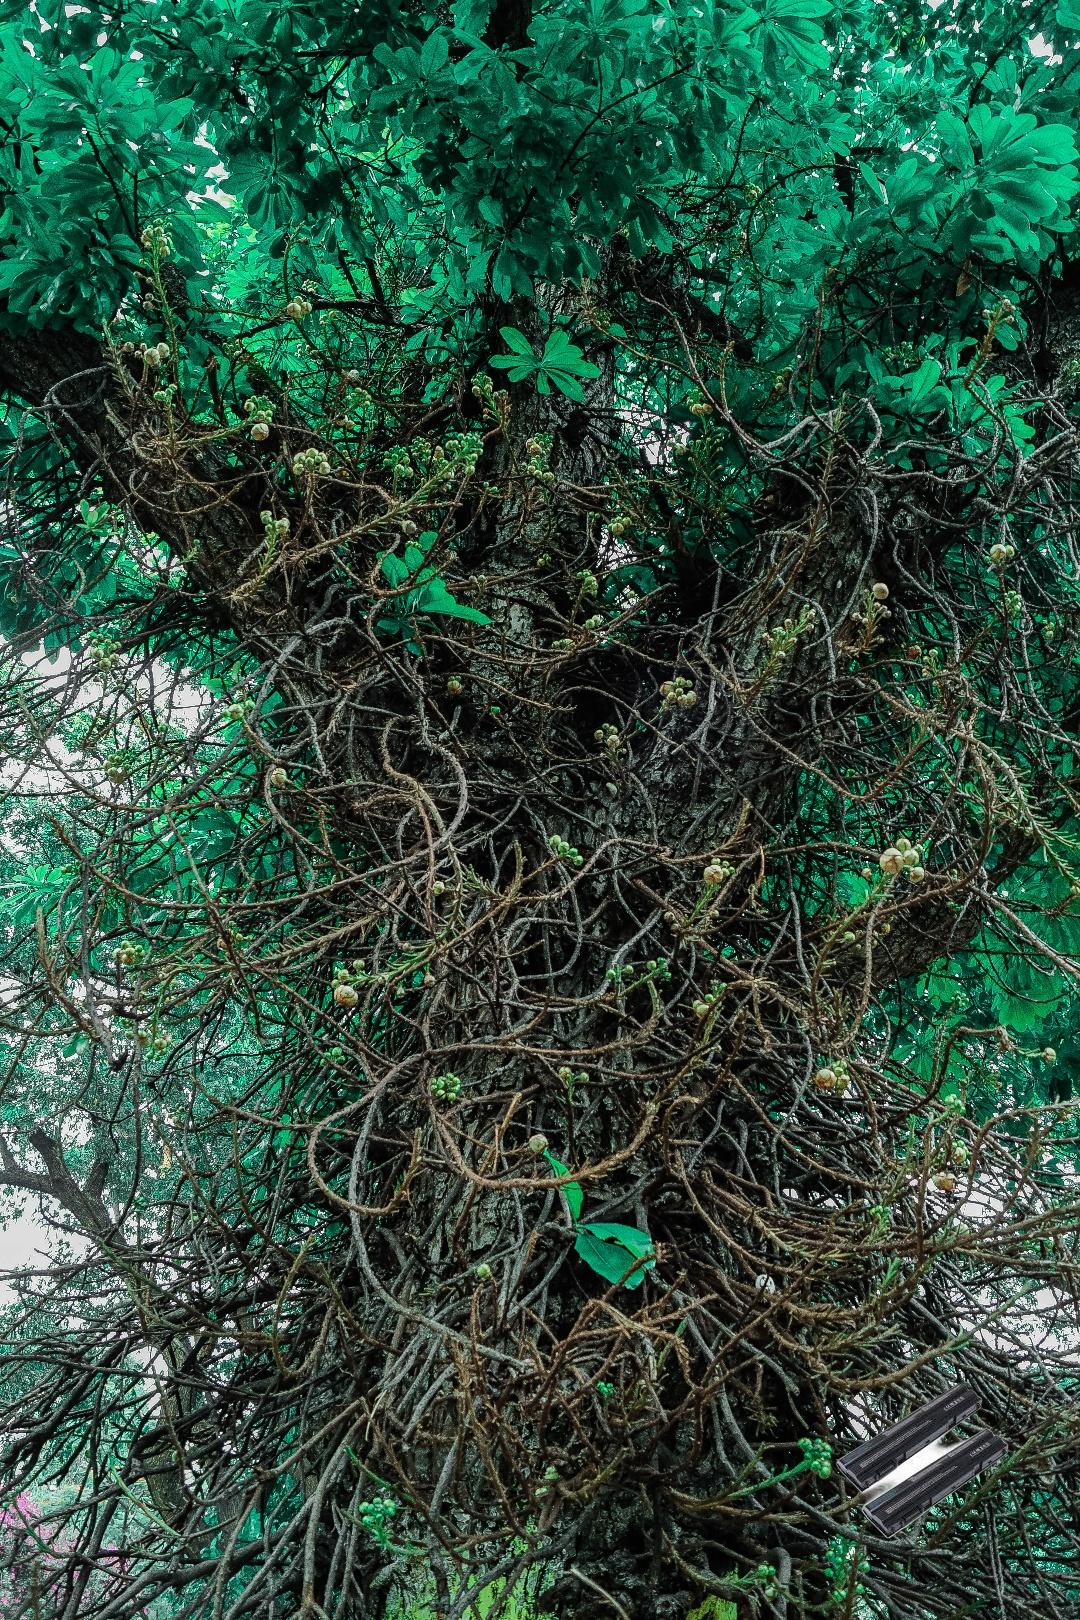battery: (833, 1372, 1011, 1542)
